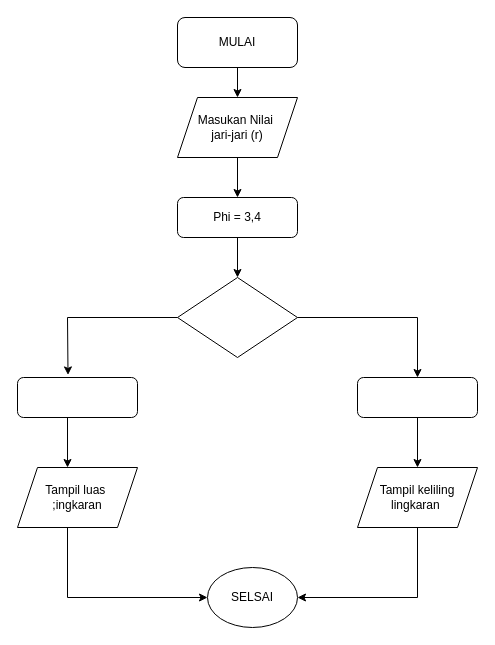
Image size: 495x645. Some labels were removed from this diagram. The centre of each missing label's shape, as x and y in pixels:
"keliling =2x3,14xr" goes at (x=417, y=397).
"luas= 3,4 x r n2" goes at (x=77, y=397).
"pilihan luas /keliling" goes at (x=237, y=317).
